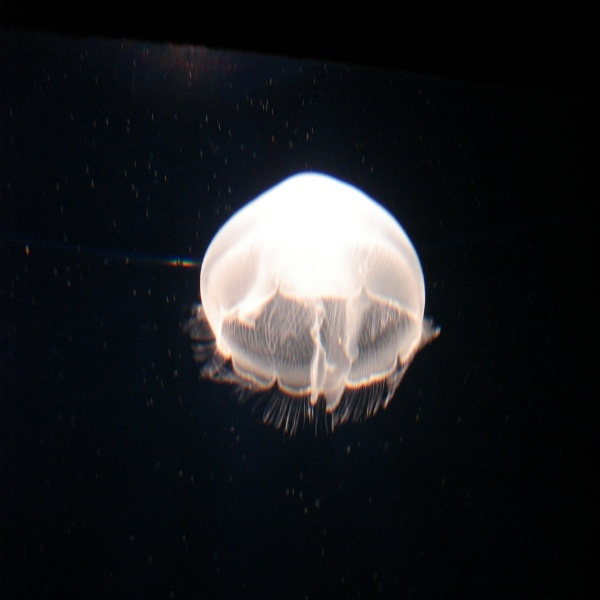Jellyfish: (180, 169, 442, 441)
